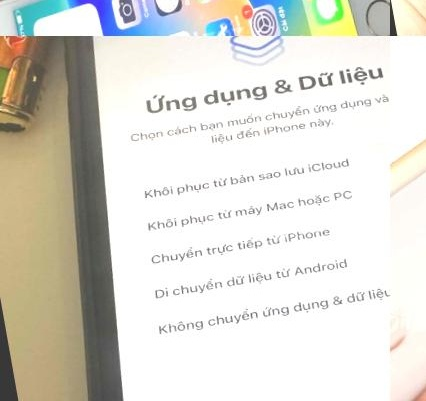scratch: (364, 11, 390, 36)
